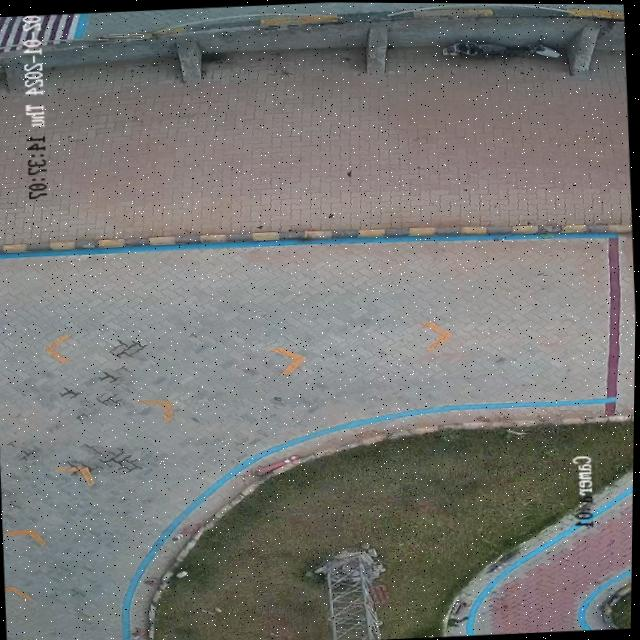No Car: (0, 2, 636, 640)
